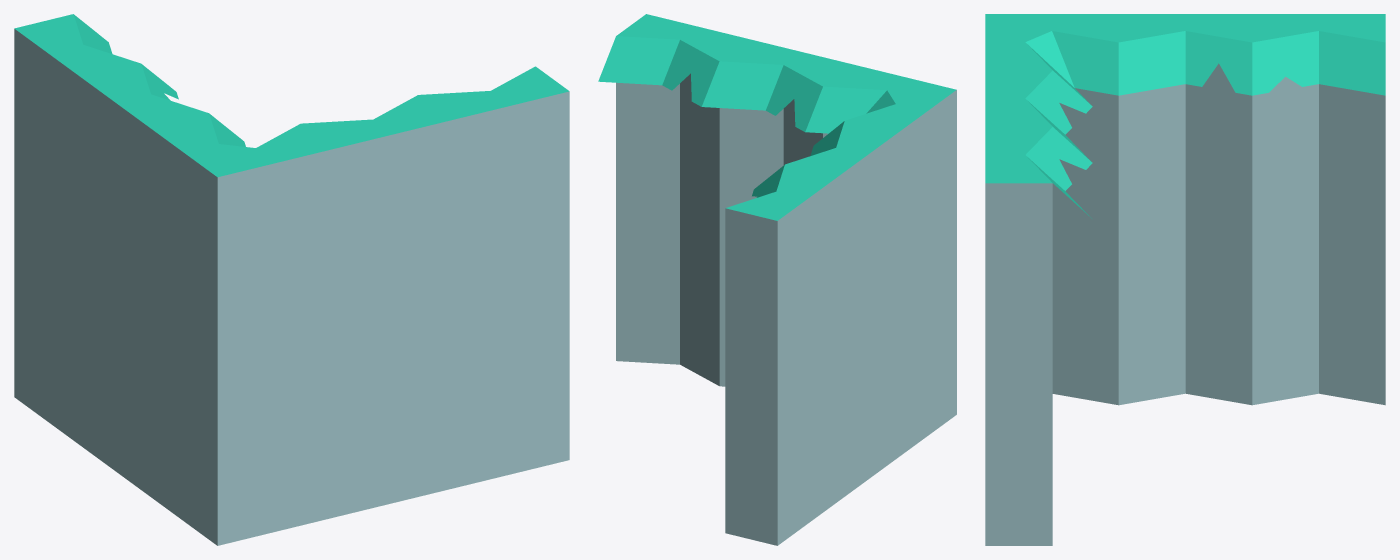
Rendered from Cliff Corner Inner Top Stone.glb.
3 views of the same model, side by side, from view 1: azimuth 30°, elevation 25°; view 2: azimuth 150°, elevation 25°; view 3: azimuth 270°, elevation 25° (orthographic). The views are drawn at different scales.
Parts seen in each view (by area): view 1: cliff_cornerInnerTop_stone; view 2: cliff_cornerInnerTop_stone; view 3: cliff_cornerInnerTop_stone.
Boxes of the visible parts, bbox=[...] form: cliff_cornerInnerTop_stone: bbox=[14, 14, 569, 545]; cliff_cornerInnerTop_stone: bbox=[598, 14, 956, 545]; cliff_cornerInnerTop_stone: bbox=[985, 14, 1385, 545].
Bounding box in the file's own units: 1 × 1 × 1.
